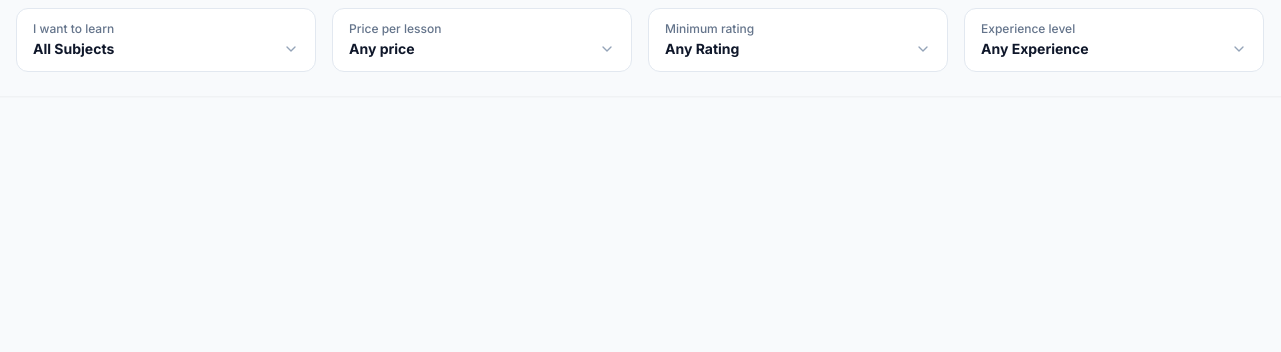
Test case: TutorSearchSection › shows rating filter options when clicked
Click the text "Any Rating" at (706,49), box [665,39,747,59]
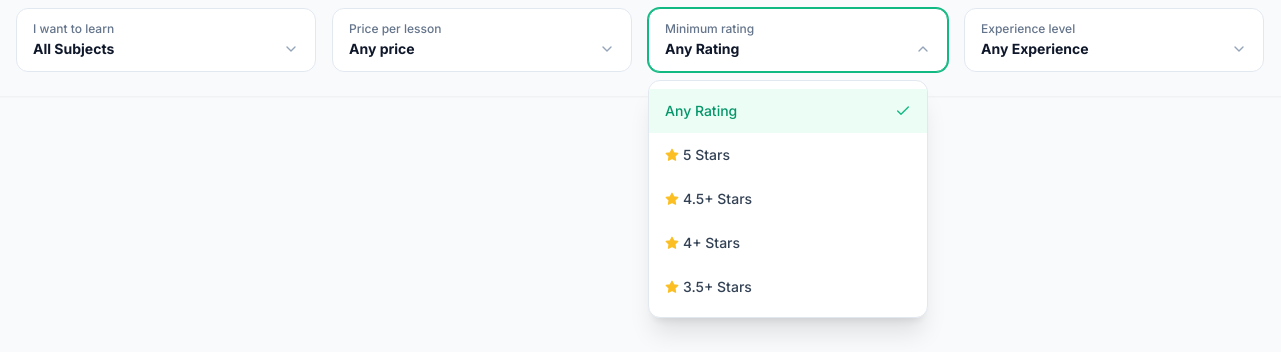
expect the text "4+ Stars" is shown: met, box [665,233,740,253]
expect the text "4.5+ Stars" is shown: met, box [665,189,752,209]
expect the text "5 Stars" is shown: met, box [665,145,730,165]
